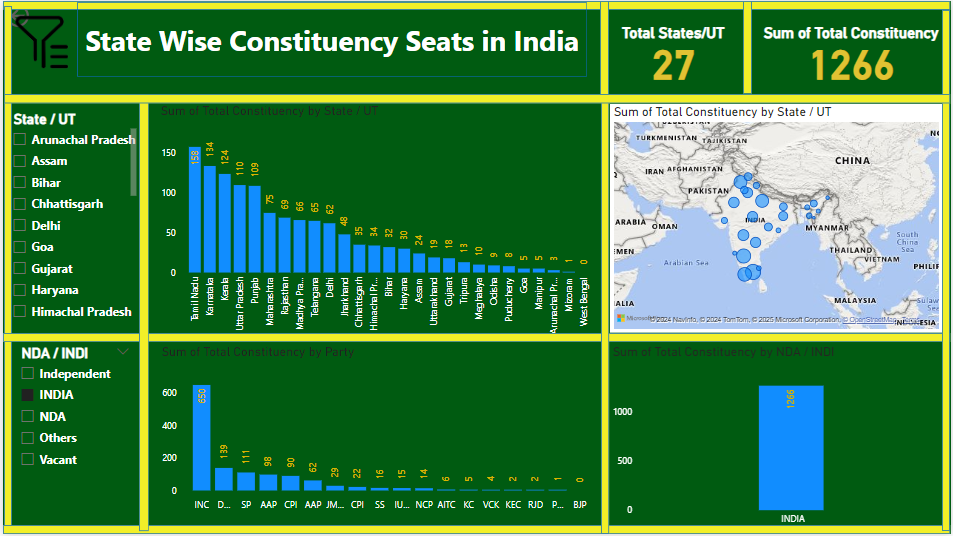

This screenshot's page, from the dashboard's own definition file:
{"tool":"powerbi","page":{"name":"Project","canvas":[1280,720],"ordinal":0},"visuals":[{"type":"card","title":"Total States/UT","fields":{"Values":["Count(Data.State / UT)"]},"box":[789.3,30.7,233.3,94.7],"z":0},{"type":"card","title":"Sum of Total Constituency","fields":{"Values":["Sum(Data.Total Constituency)"]},"box":[1012,30.7,268,94.7],"z":1000},{"type":"columnChart","fields":{"Category":["Data.State / UT"],"Y":["Sum(Data.Total Constituency)"]},"box":[208.2,137.8,597.8,322.1],"z":2000},{"type":"columnChart","fields":{"Y":["Sum(Data.Total Constituency)"],"Category":["Data.Party"]},"box":[209.6,464.2,599.2,249],"z":3000},{"type":"map","fields":{"Category":["Data.State / UT"],"Size":["Sum(Data.Total Constituency)"]},"box":[820.3,139.2,448.6,309.5],"z":4000},{"type":"columnChart","fields":{"Y":["Sum(Data.Total Constituency)"],"Category":["Data.NDA / INDI"]},"box":[818.6,464.2,461.4,254.6],"z":5000},{"type":"slicer","fields":{"Values":["Data.State / UT"]},"box":[1.4,143.5,184.3,301],"z":6000},{"type":"slicer","fields":{"Values":["Data.NDA / INDI"]},"box":[12,460,170.7,196],"z":7000},{"type":"actionButton","box":[0,0,100,40],"z":8000},{"type":"shape","box":[0,0,1280,12],"z":9000},{"type":"shape","box":[100,1.3,689.3,101.3],"z":10000},{"type":"shape","box":[1.3,6.7,10.7,709.3],"z":11000},{"type":"shape","box":[0,707.7,1280,12.2],"z":12000},{"type":"shape","box":[0,448.1,1280,12.2],"z":13000},{"type":"shape","box":[184,128,13.3,588],"z":14000},{"type":"shape","box":[1269.3,12,10.7,704],"z":15000},{"type":"shape","box":[808,127,11,593],"z":16000},{"type":"image","box":[6.7,6.7,90.7,96],"z":17000},{"type":"shape","box":[1000,0,12,125.3],"z":18000},{"type":"shape","box":[806.7,0,12,130.7],"z":19000},{"type":"shape","box":[1.4,125.2,1278.6,12.7],"z":20000}]}

Visuals, with their boxes in screenshot pixels (x1, y1, x2, y2), scaled from the page's 1280x720 canvas onto the 953x536 screenshot:
"Total States/UT" card: rect(588, 23, 761, 93)
"Sum of Total Constituency" card: rect(753, 23, 952, 93)
columnChart - Data.State / UT x Sum(Data.Total Constituency): rect(155, 103, 600, 342)
columnChart - Sum(Data.Total Constituency) x Data.Party: rect(156, 346, 602, 531)
map - Data.State / UT x Sum(Data.Total Constituency): rect(611, 104, 945, 334)
columnChart - Sum(Data.Total Constituency) x Data.NDA / INDI: rect(609, 346, 952, 535)
slicer - Data.State / UT: rect(1, 107, 138, 331)
slicer - Data.NDA / INDI: rect(9, 342, 136, 488)
actionButton: rect(0, 0, 74, 30)
shape: rect(0, 0, 952, 9)
shape: rect(74, 1, 588, 76)
shape: rect(1, 5, 9, 533)
shape: rect(0, 527, 952, 535)
shape: rect(0, 334, 952, 343)
shape: rect(137, 95, 147, 533)
shape: rect(945, 9, 952, 533)
shape: rect(602, 95, 610, 535)
image: rect(5, 5, 73, 76)
shape: rect(745, 0, 753, 93)
shape: rect(601, 0, 610, 97)
shape: rect(1, 93, 952, 103)
